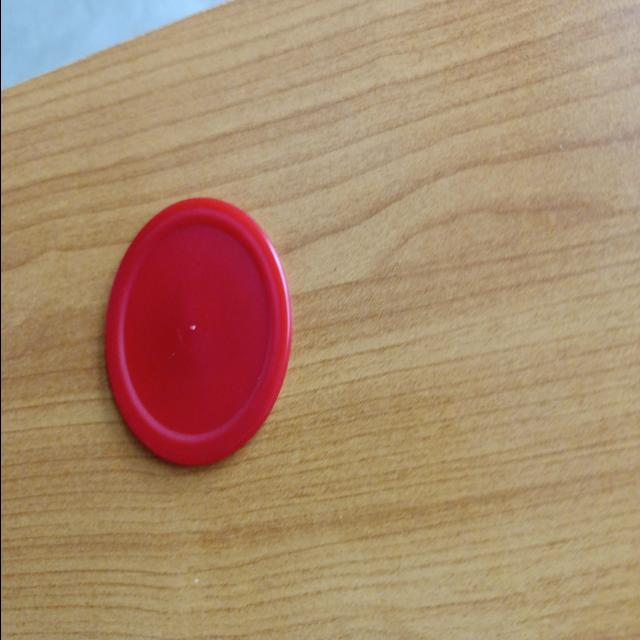chip: (102, 197, 292, 469)
